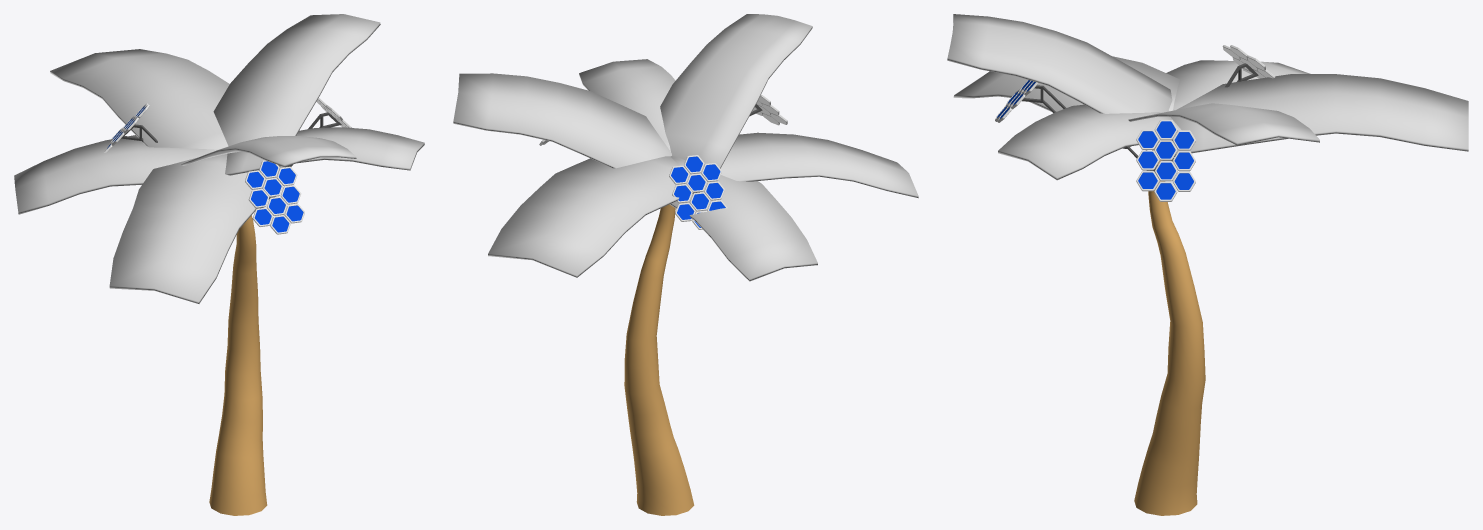
The model's file is SM_PrototypeSolarTree_2.fbx.
The picture shows the model from 3 angles, left to right: view 1: azimuth 30°, elevation 25°; view 2: azimuth 150°, elevation 25°; view 3: azimuth 270°, elevation 25°; orthographic projection. The views are drawn at different scales.
Parts seen in each view (by area): view 1: BezierCurve.001; view 2: BezierCurve.001; view 3: BezierCurve.001.
Boxes of the visible parts, box(x1,y1,x2,y2) form: BezierCurve.001: box(14, 14, 424, 515); BezierCurve.001: box(453, 14, 918, 515); BezierCurve.001: box(947, 14, 1468, 515).
Bounding box in the file's own units: 608 × 672 × 686.
